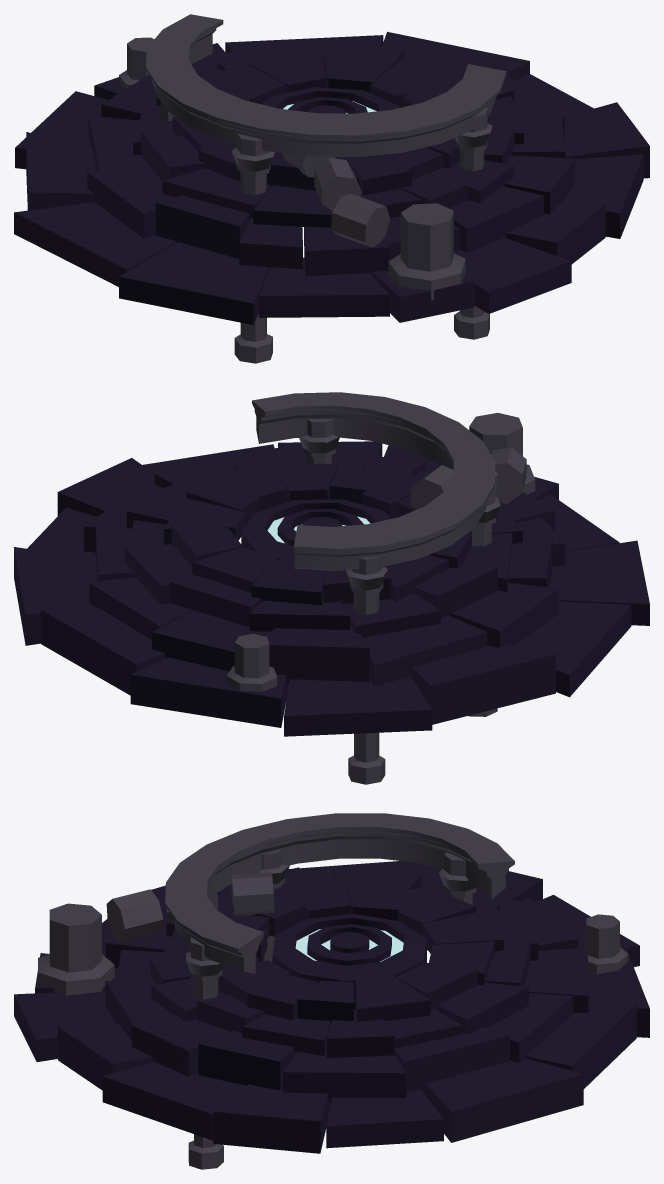
Rendered from LakeTemple.fbx.
The picture shows the model from 3 angles, top to bottom: view 1: azimuth 30°, elevation 25°; view 2: azimuth 150°, elevation 25°; view 3: azimuth 270°, elevation 25°; orthographic projection.
Visible parts, largest first — view 1: Temple, rembarde; view 2: Temple, rembarde; view 3: Temple, rembarde.
Part boxes in pixels (left/top/right/bottom): Temple: left=14, top=31, right=649, bottom=325; rembarde: left=146, top=14, right=506, bottom=363; Temple: left=14, top=413, right=649, bottom=736; rembarde: left=252, top=392, right=500, bottom=784; Temple: left=14, top=861, right=649, bottom=1153; rembarde: left=165, top=813, right=514, bottom=1169.
Size of the model in its own units: 1721 by 714 by 1698.
